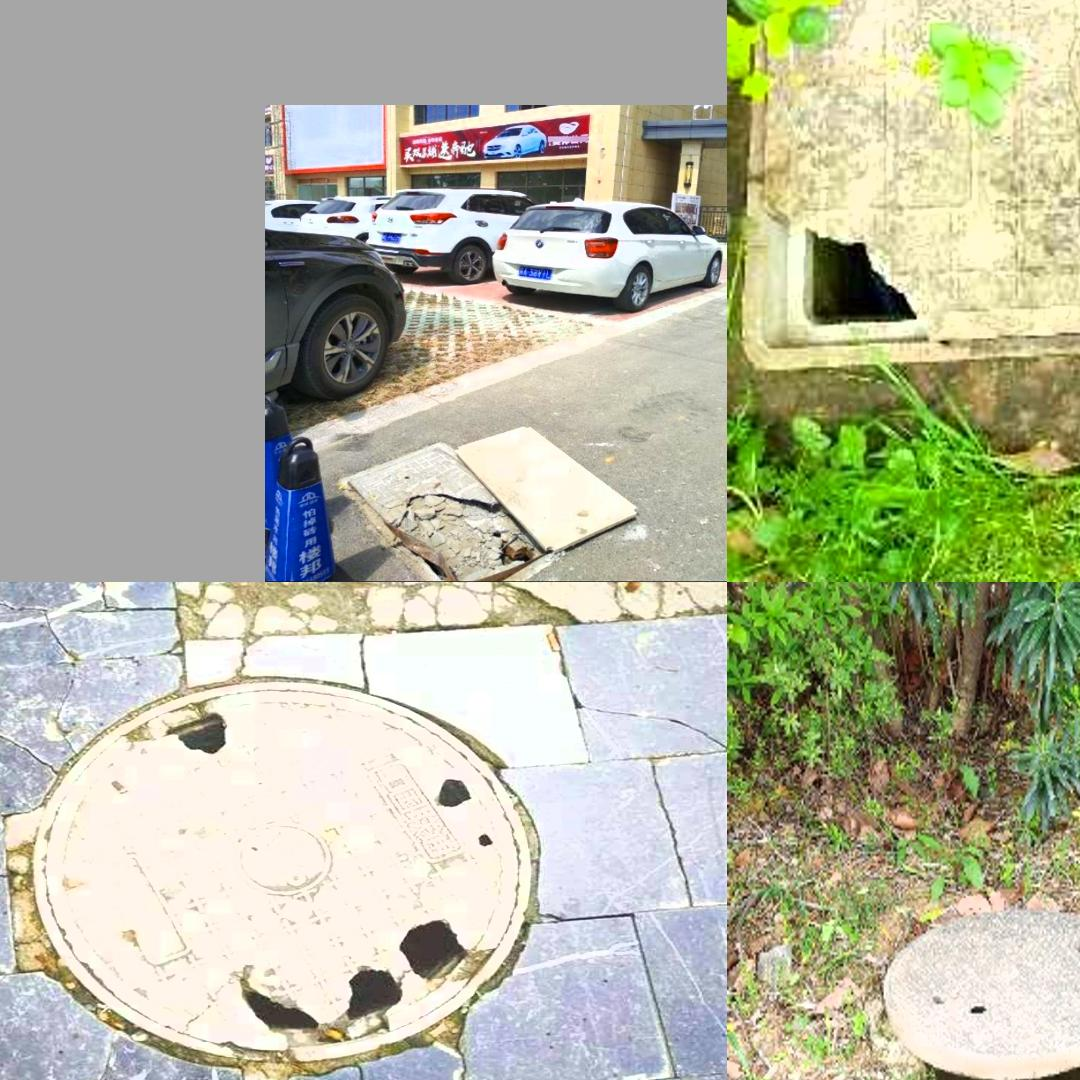broke: (32, 682, 532, 1063), (759, 0, 1080, 332), (883, 905, 1080, 1080), (341, 470, 576, 574)
